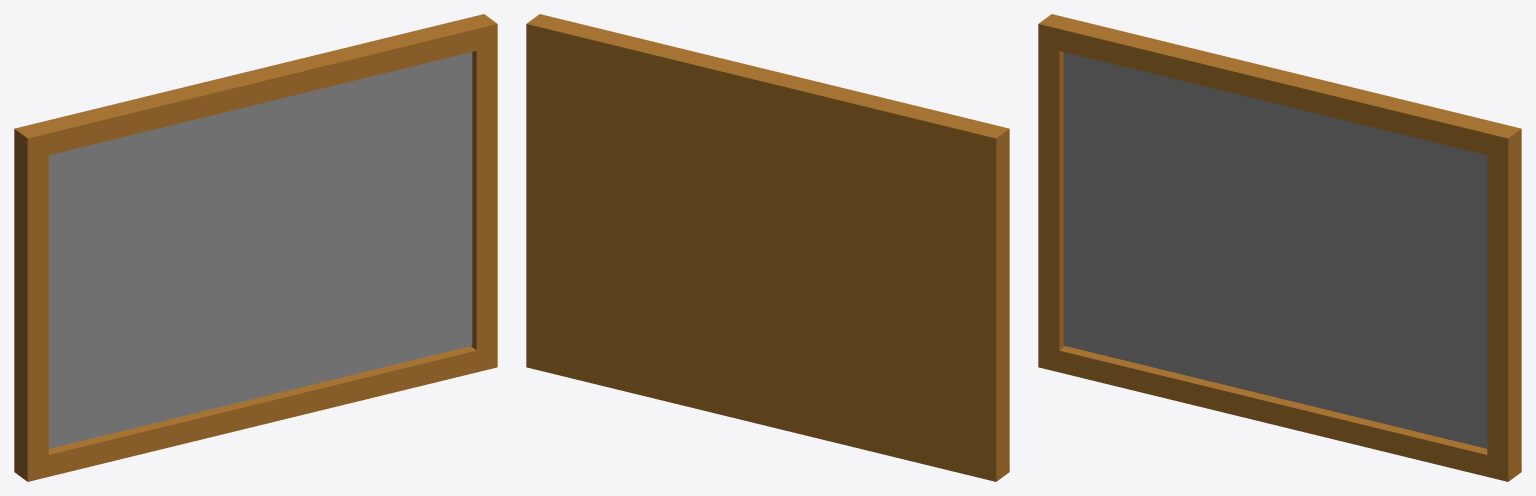
File: Picture.FBX
The picture shows the model from 3 angles, left to right: view 1: azimuth 30°, elevation 25°; view 2: azimuth 150°, elevation 25°; view 3: azimuth 330°, elevation 25°; orthographic projection.
Parts seen in each view (by area): view 1: Plane001, Box001; view 2: Box001; view 3: Plane001, Box001.
Part boxes in pixels (x1,y1,x2,y2): Plane001: [48, 52, 472, 448]; Box001: [14, 14, 497, 481]; Box001: [526, 14, 1009, 481]; Plane001: [1063, 52, 1487, 448]; Box001: [1038, 14, 1521, 481].
Bounding box in the file's own units: 39.67 × 27.71 × 1.98.
